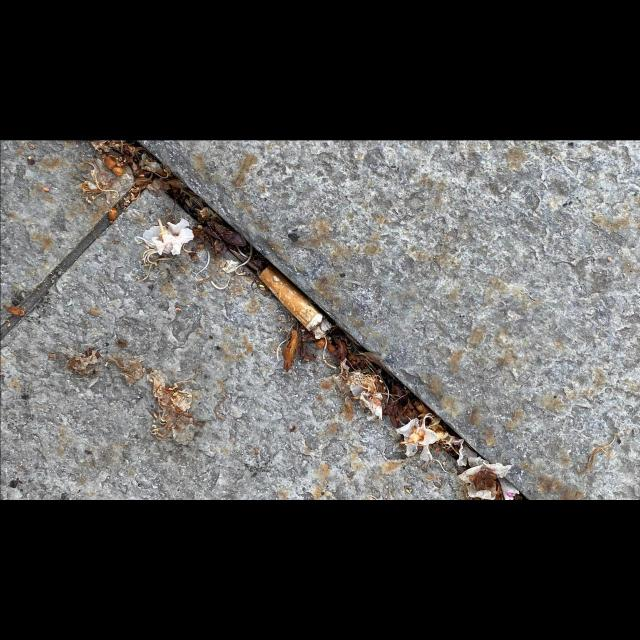cigarette: (258, 263, 332, 339)
